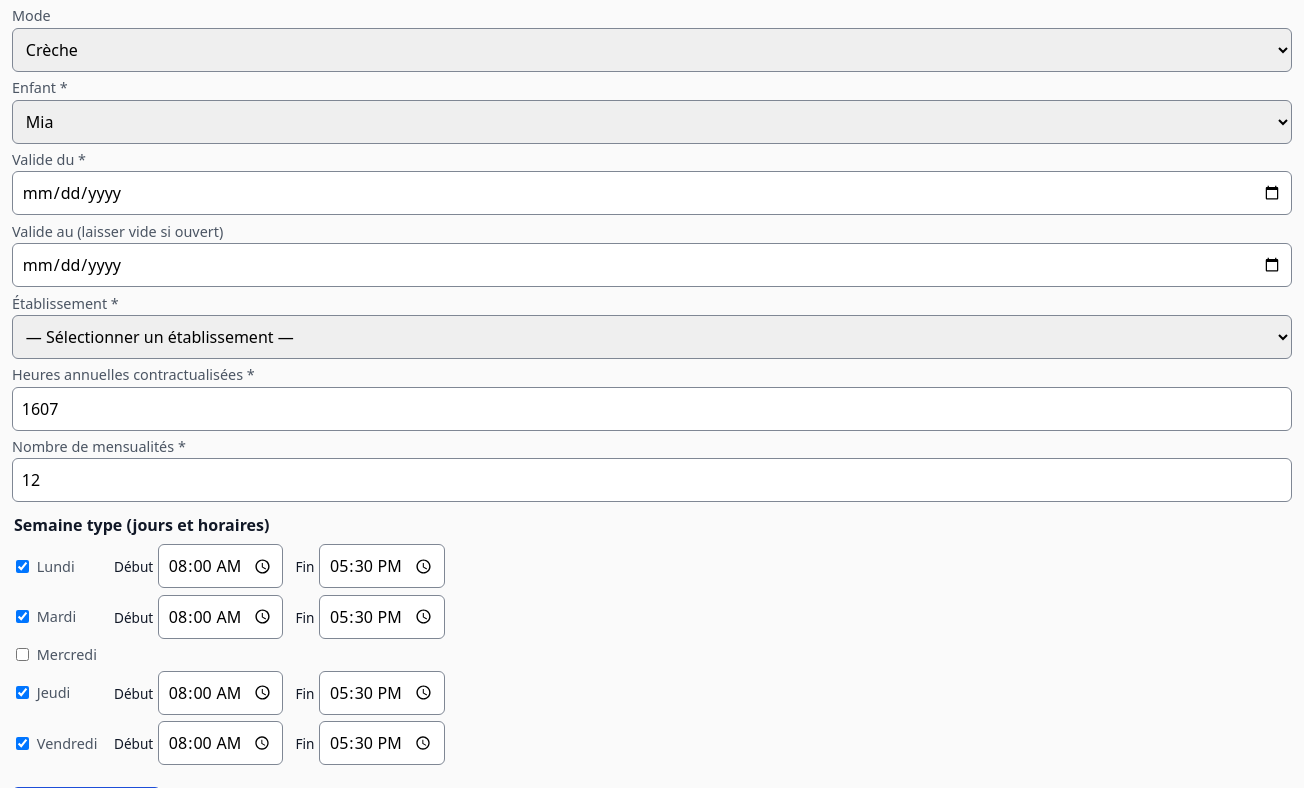
ContratForm › bascule vers les champs PERISCOLAIRE
The width and height of the screenshot is (1304, 788).
Select "Périscolaire" in the dropdown labelled "Mode" at (652,50), box [12,28,1292,72]
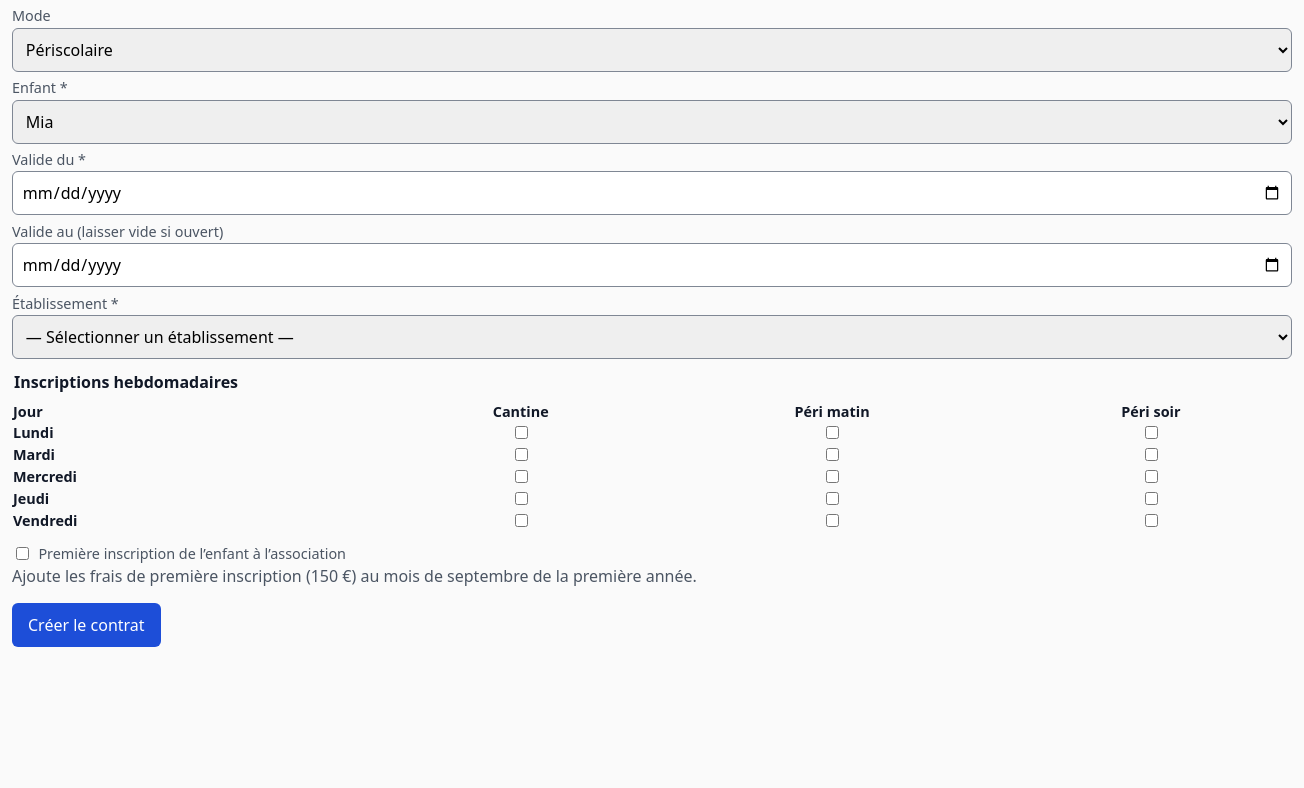
Expected: the text "Inscriptions hebdomadaires" is shown, [12,371,240,393]
